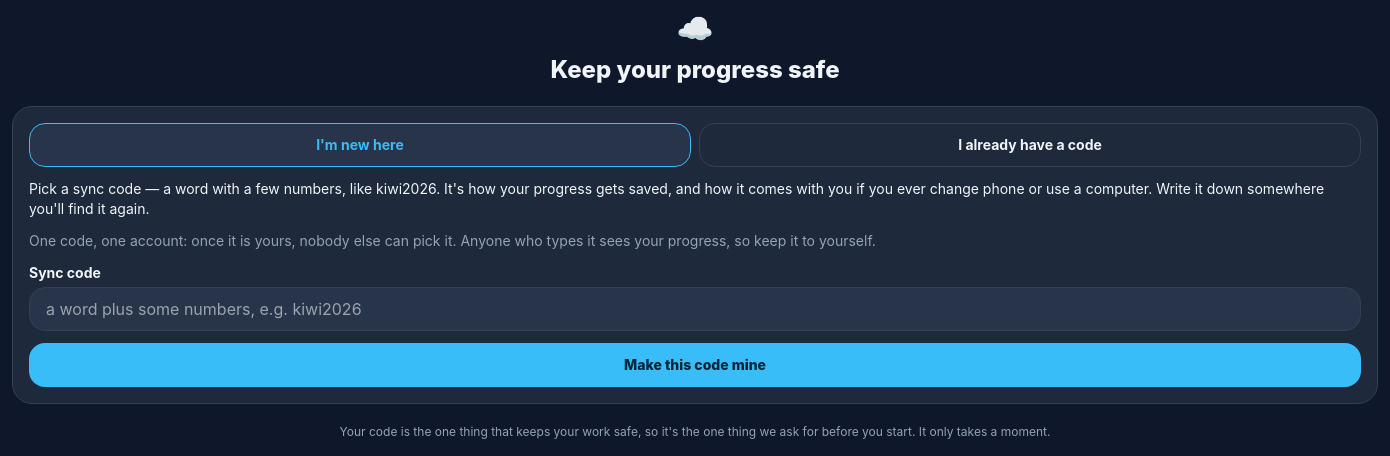
Test: SyncSetup — creating an account › claims a free code and says it is hers from right now
This screenshot has width=1390, height=456.
Type "kiwi2026" into the field labelled "Sync code" at (695, 309), box [29,287,1361,331]
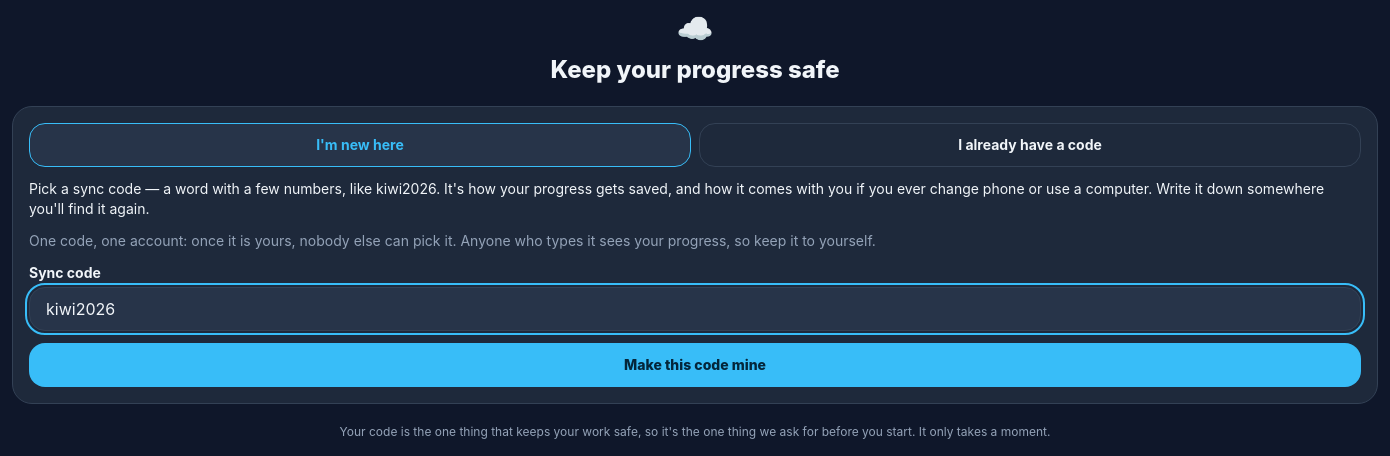
Click the button "Make this code mine" at (695, 365), box [29,343,1361,387]
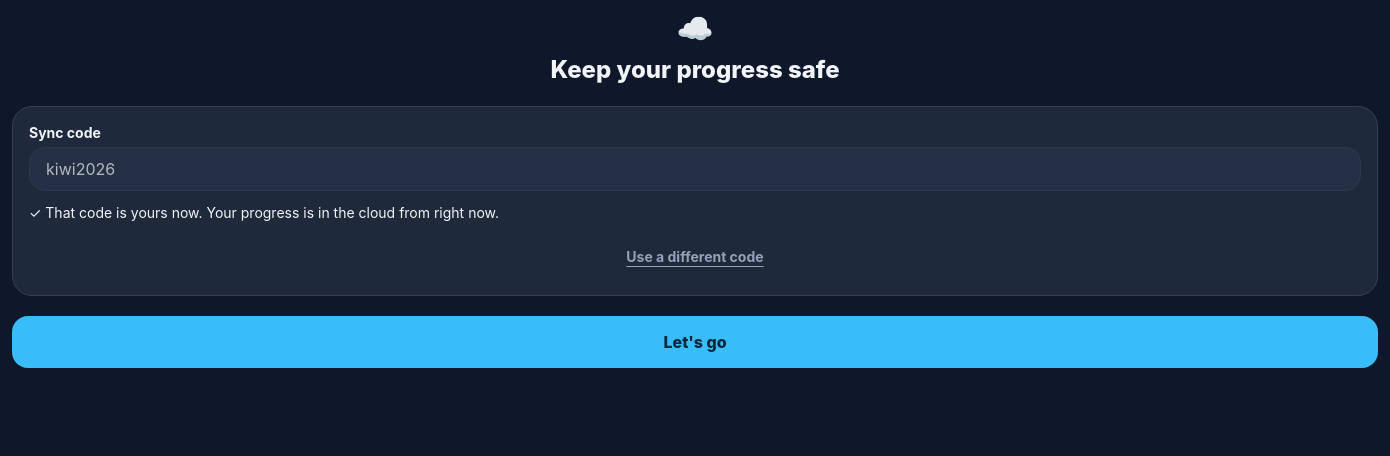
Result: the text "✓ That code is yours now. Your progress is in the cloud from right now." is shown at [29,204,499,221]
